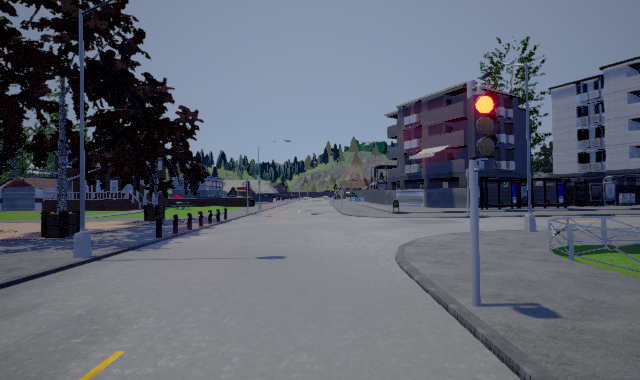traffic_light: (467, 83, 498, 172)
